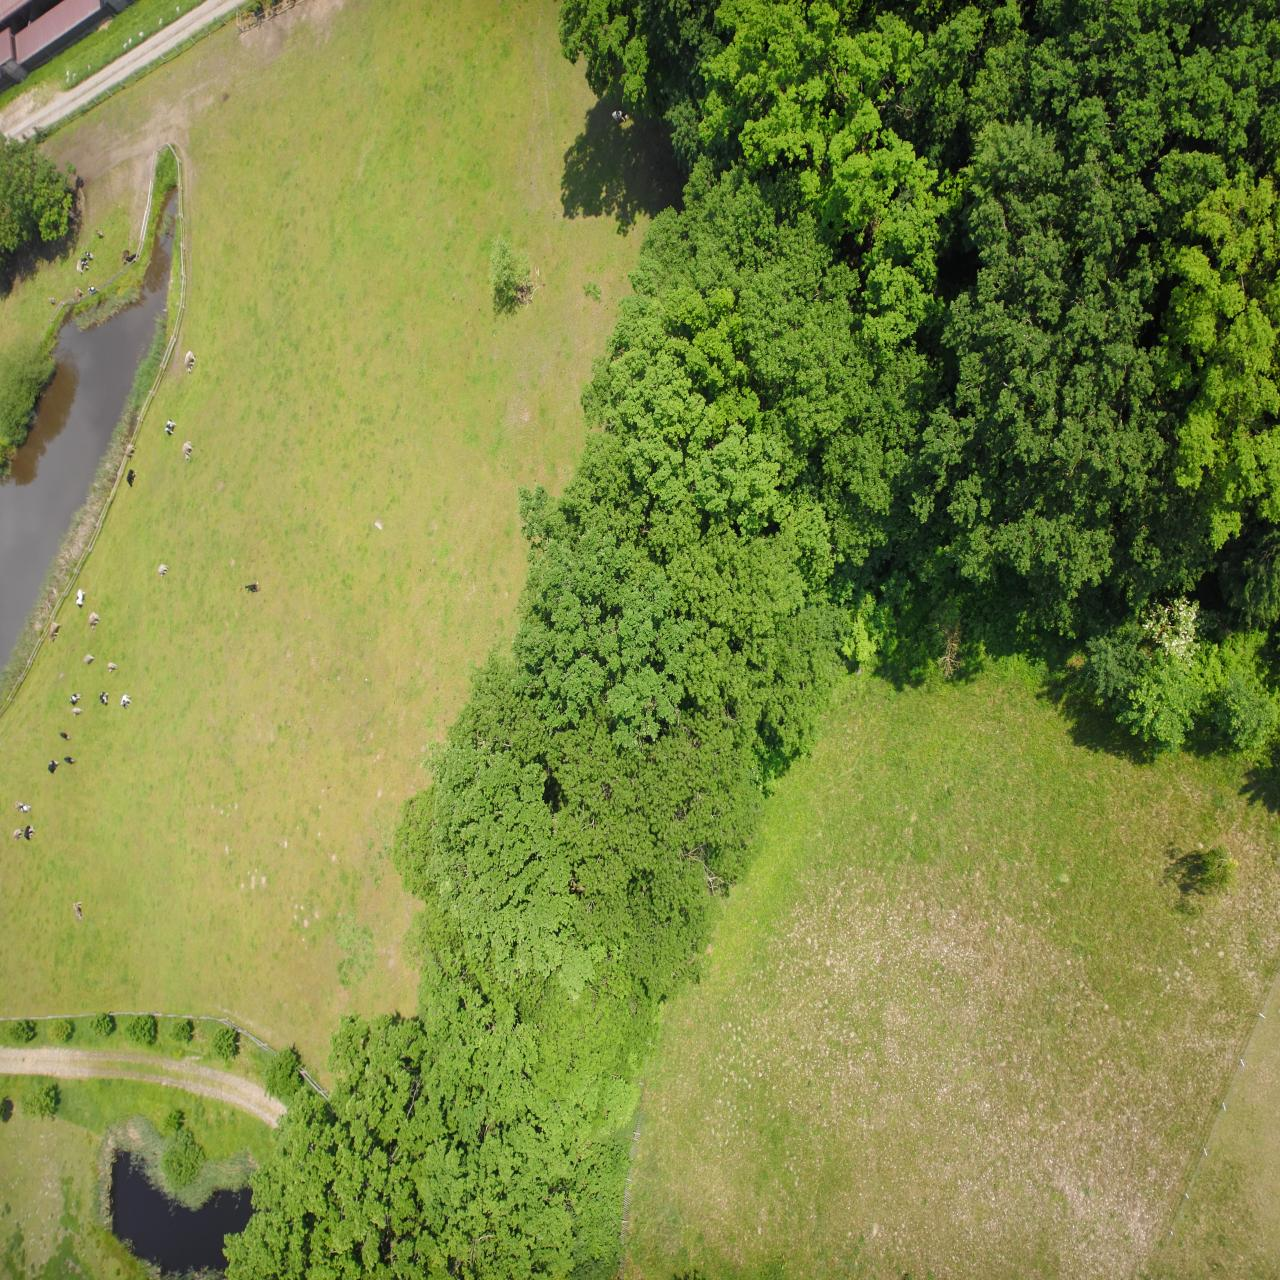cow: (1219, 638, 1231, 659), (1084, 906, 1095, 930), (1087, 819, 1098, 839), (1197, 359, 1207, 380), (1143, 792, 1155, 811), (1248, 467, 1266, 478), (1193, 672, 1204, 690), (1180, 651, 1191, 668), (1103, 844, 1115, 859), (1019, 688, 1035, 699), (1145, 818, 1155, 836), (1149, 571, 1159, 586), (1221, 505, 1232, 520), (1111, 702, 1122, 717), (1245, 440, 1255, 455), (1257, 438, 1267, 452), (1198, 574, 1210, 586), (1141, 1016, 1155, 1026), (1197, 979, 1205, 994), (1186, 615, 1197, 626), (1208, 539, 1220, 549), (1171, 574, 1179, 587), (1163, 607, 1172, 618), (1197, 564, 1208, 572), (1190, 1009, 1198, 1021), (1197, 1006, 1203, 1021), (1205, 516, 1216, 524), (1151, 1017, 1158, 1029), (1176, 1042, 1185, 1050), (1186, 1020, 1194, 1027), (1184, 987, 1192, 993), (1225, 976, 1232, 982)
